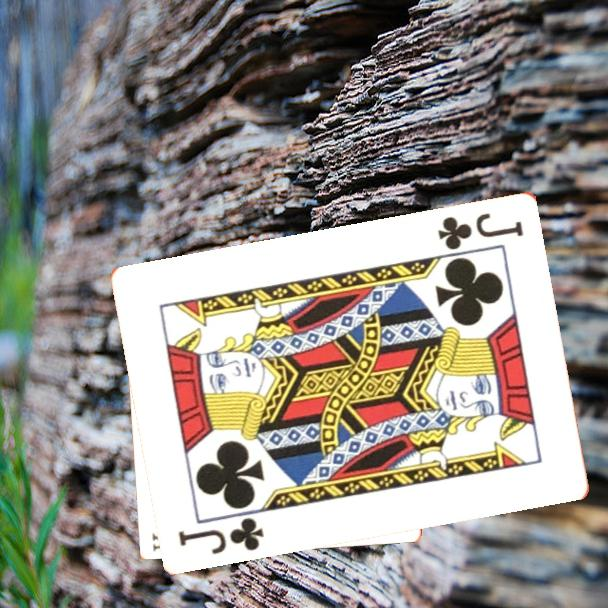c11: (435, 208, 527, 252), (175, 513, 267, 557)
